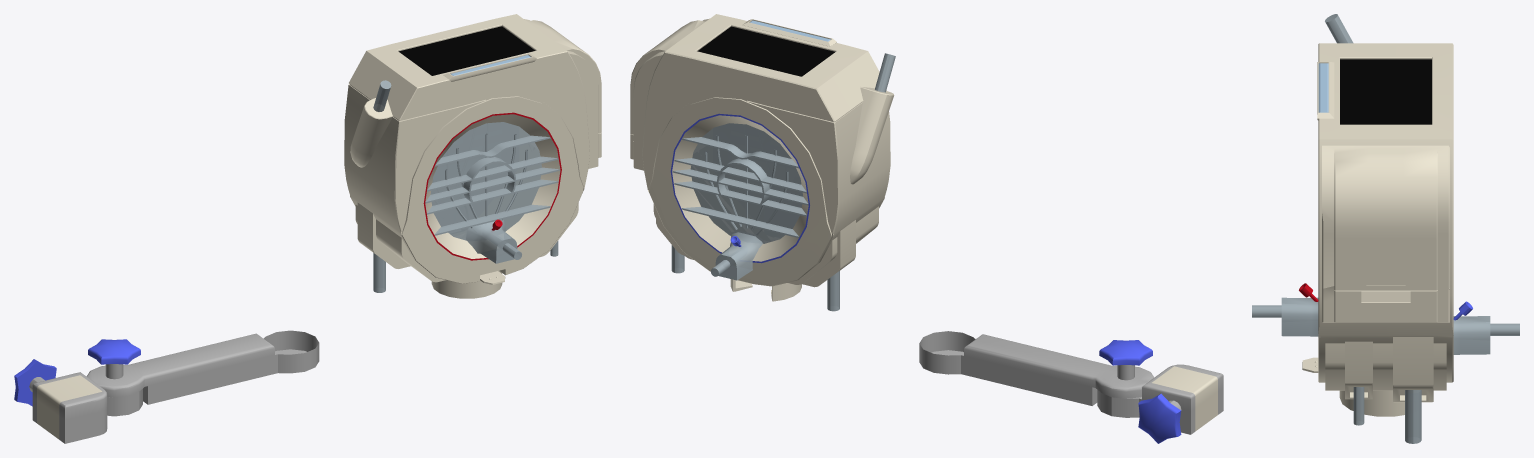
Rendered from nautilus.fbx.
The picture shows the model from 3 angles, left to right: view 1: azimuth 30°, elevation 25°; view 2: azimuth 150°, elevation 25°; view 3: azimuth 270°, elevation 25°; orthographic projection. The views are drawn at different scales.
Parts seen in each view (by area): view 1: Nautilus, Holder1, Holder; view 2: Nautilus, Holder1, Holder; view 3: Nautilus.
Boxes of the visible parts, x1=… form: Nautilus: x1=344, y1=14, x2=601, y2=298; Holder1: x1=86, y1=330, x2=319, y2=404; Holder: x1=14, y1=359, x2=142, y2=443; Nautilus: x1=630, y1=14, x2=895, y2=311; Holder1: x1=919, y1=331, x2=1153, y2=405; Holder: x1=1097, y1=364, x2=1223, y2=443; Nautilus: x1=1252, y1=14, x2=1519, y2=443.
Size of the model in its own units: 49.62 by 24.36 by 16.06.
